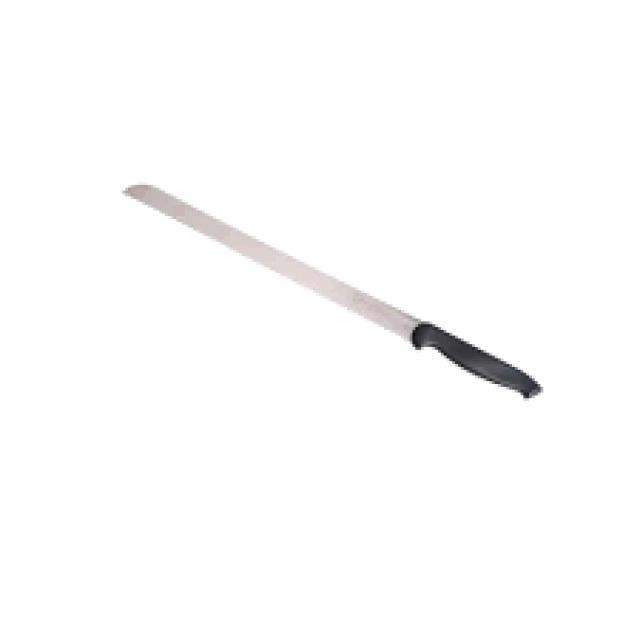Knife: (125, 185, 540, 395)
